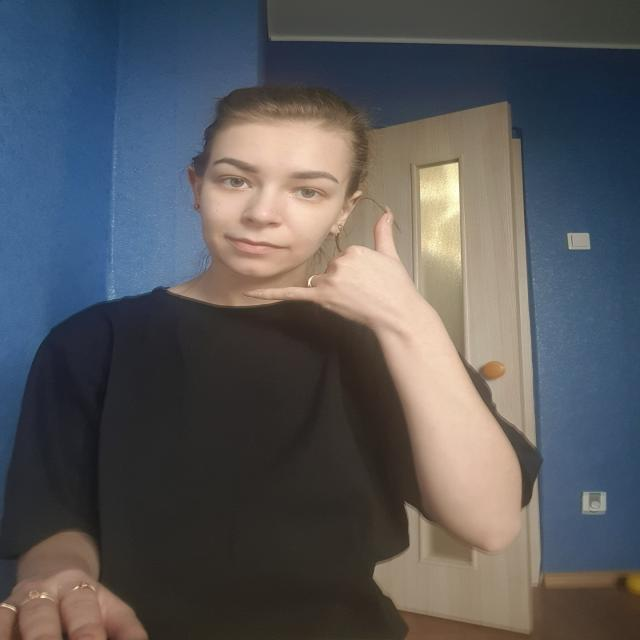call: (237, 205, 429, 327)
